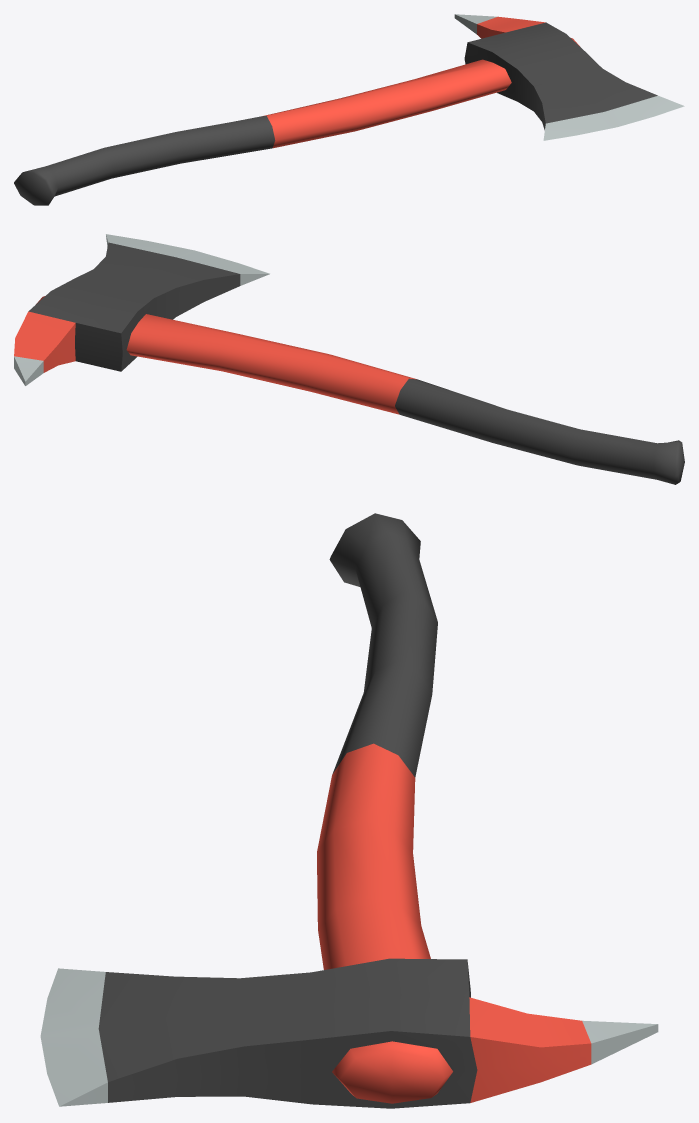
Rendered from Axe.fbx.
3 renders of one model, top to bottom at view 1: azimuth 30°, elevation 25°; view 2: azimuth 150°, elevation 25°; view 3: azimuth 270°, elevation 25°, orthographic. The views are drawn at different scales.
Parts seen in each view (by area): view 1: Axe; view 2: Axe; view 3: Axe.
Part boxes in pixels (<box>): Axe: <box>14,14,684,205</box>; Axe: <box>14,234,684,484</box>; Axe: <box>40,513,658,1108</box>.
Size of the model in its own units: 1.4 by 0.0896 by 0.6448.
